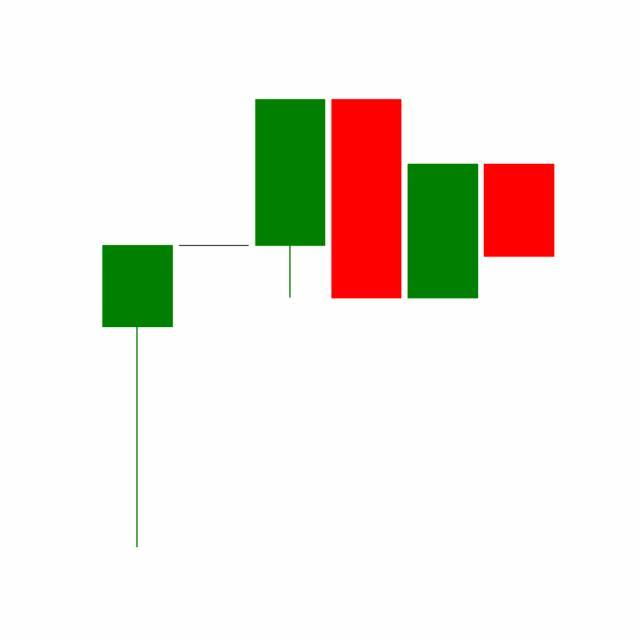Marubozu: (404, 163, 482, 301)
